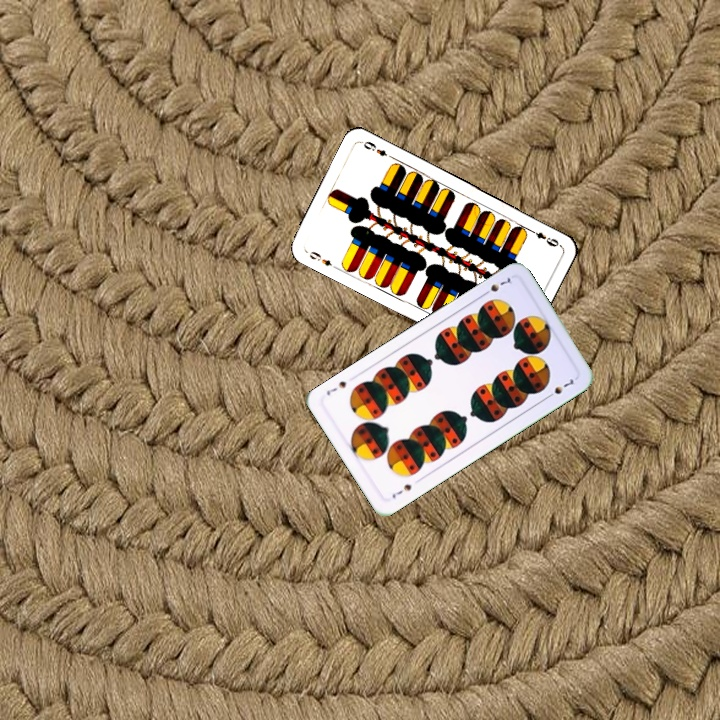E9: (525, 225, 563, 250), (305, 247, 335, 269)
S7: (478, 274, 515, 299), (388, 480, 414, 501)
